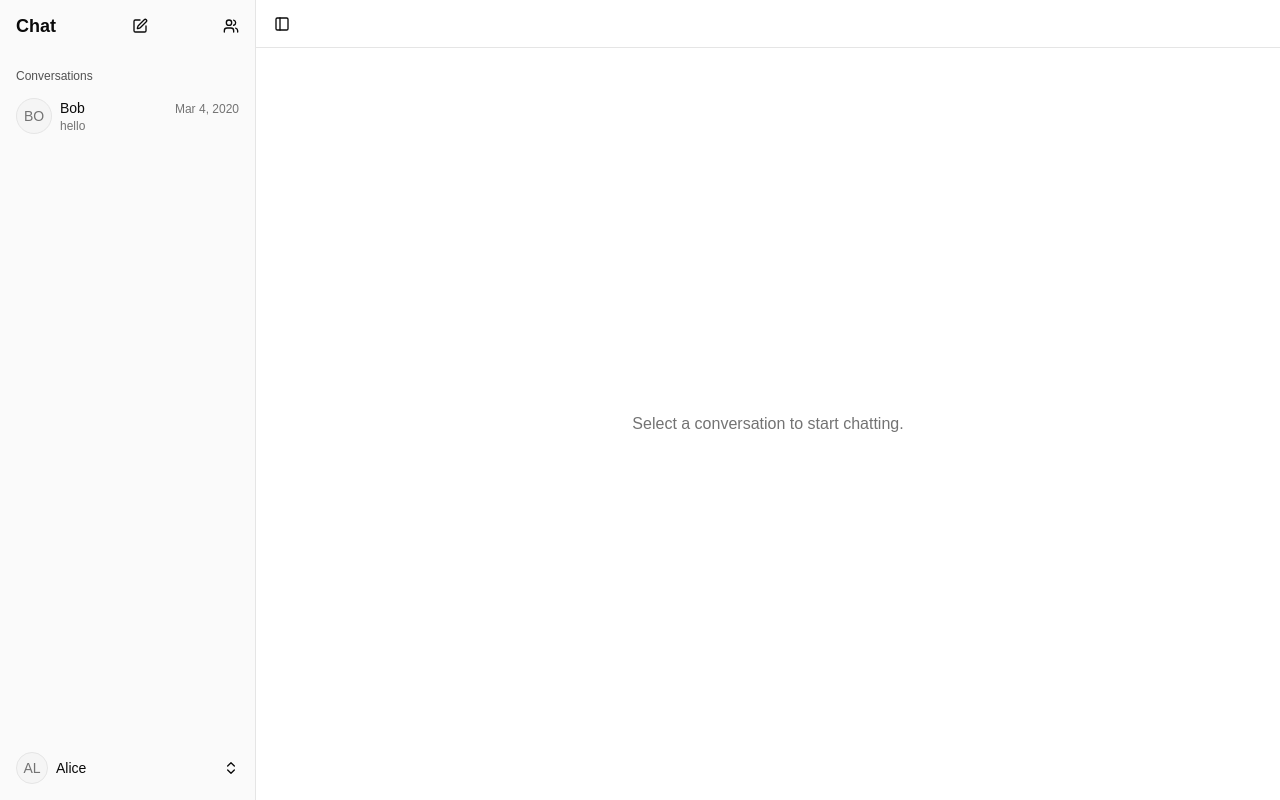
Scenario: Conversation pane height › is bounded to the viewport height so the message list scrolls instead of growing the page
What coordinates should you click on to do the following:
click the button "BO Bob Mar 4, 2020 hello"
I would click on:
 (128, 116)
Its box is [8, 92, 247, 140].
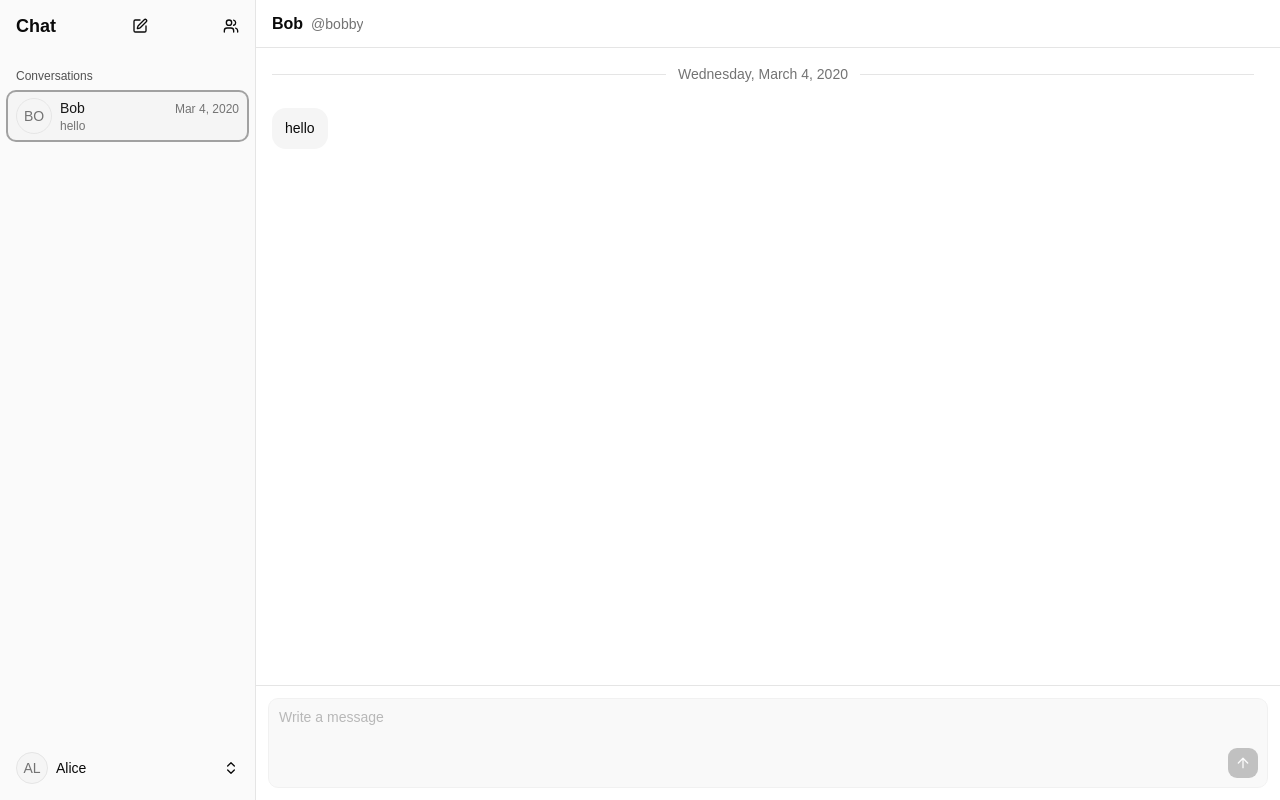
Expected: the element named "messages" is shown, [272, 66, 848, 149]
